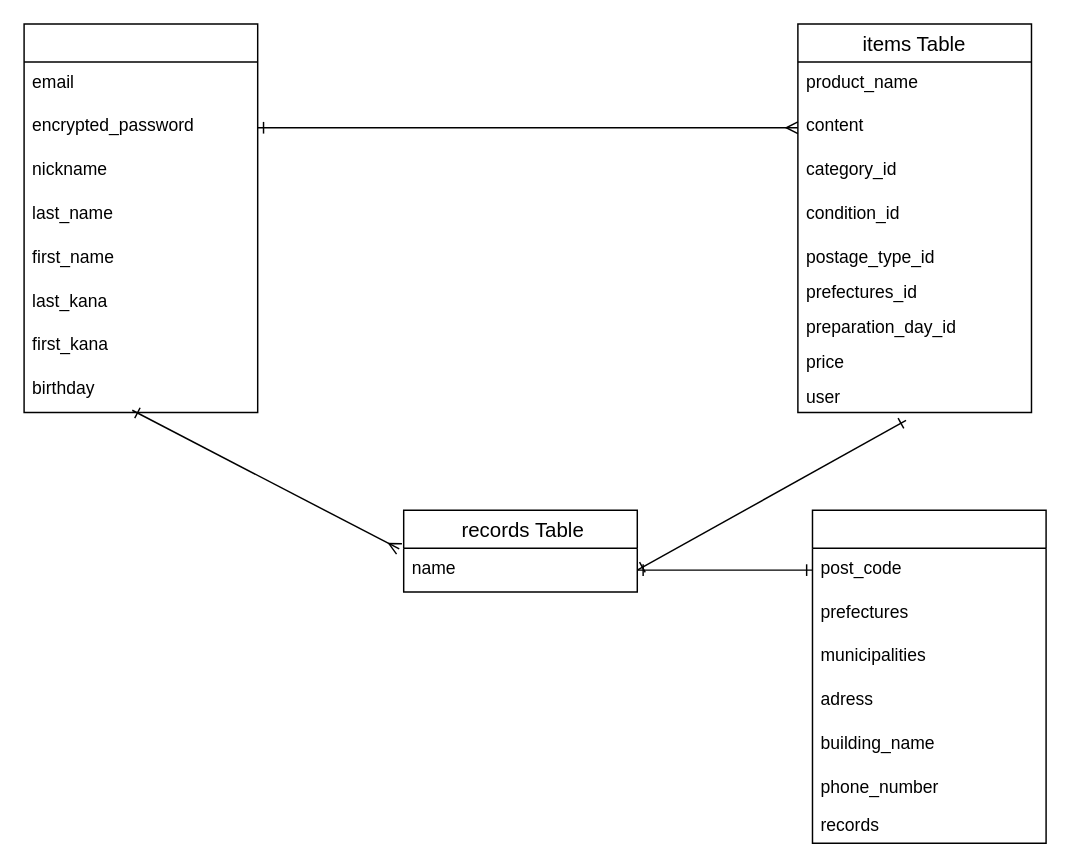
Image size: 1070x867. Some labels were removed from this diagram. Here are the shapes that lost their labels. From the top down, the box of each, then its label:
(23, 23, 258, 412): users Table
(811, 509, 1046, 843): addresses Table
